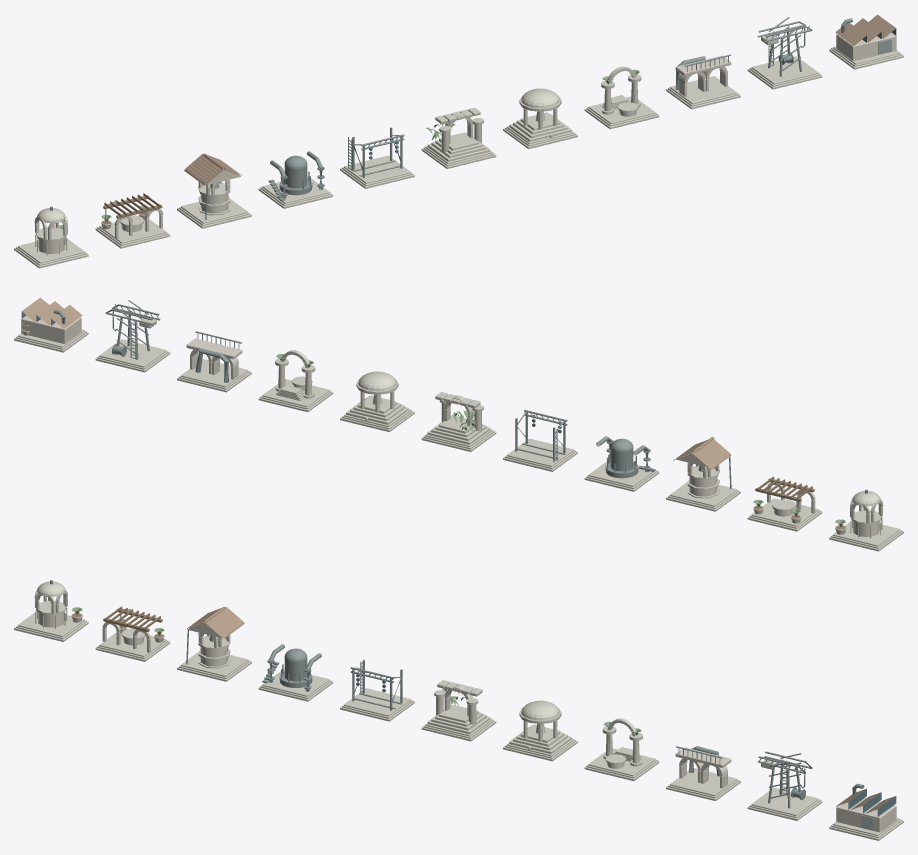
The model's file is landmarks.glb.
3 views of the same model, one above another, from view 1: azimuth 30°, elevation 25°; view 2: azimuth 150°, elevation 25°; view 3: azimuth 330°, elevation 25° (orthographic).
Parts seen in each view (by area): view 1: inferno__landmark, cache__landmark, ancient__landmark, vertigo__landmark, ancient_night__landmark, overpass__landmark, mirage__landmark, dust2__landmark, nuke__landmark, train__landmark, anubis__landmark; view 2: inferno__landmark, cache__landmark, overpass__landmark, ancient_night__landmark, vertigo__landmark, ancient__landmark, mirage__landmark, dust2__landmark, nuke__landmark, train__landmark, anubis__landmark; view 3: inferno__landmark, ancient__landmark, cache__landmark, vertigo__landmark, ancient_night__landmark, overpass__landmark, mirage__landmark, dust2__landmark, nuke__landmark, train__landmark, anubis__landmark.
Boxes of the visible parts, left/top/right/bottom form: inferno__landmark: left=177, top=153, right=251, bottom=228; cache__landmark: left=829, top=14, right=903, bottom=69; ancient__landmark: left=421, top=107, right=496, bottom=168; vertigo__landmark: left=747, top=17, right=822, bottom=89; ancient_night__landmark: left=503, top=88, right=577, bottom=148; overpass__landmark: left=666, top=54, right=740, bottom=109; mirage__landmark: left=95, top=193, right=170, bottom=248; dust2__landmark: left=14, top=206, right=88, bottom=268; nuke__landmark: left=258, top=151, right=333, bottom=208; train__landmark: left=340, top=127, right=414, bottom=188; anubis__landmark: left=584, top=66, right=659, bottom=129; inferno__landmark: left=666, top=436, right=740, bottom=511; cache__landmark: left=14, top=297, right=88, bottom=352; overpass__landmark: left=177, top=331, right=251, bottom=392; ancient_night__landmark: left=340, top=371, right=414, bottom=431; vertigo__landmark: left=95, top=300, right=170, bottom=372; ancient__landmark: left=421, top=392, right=496, bottom=451; mirage__landmark: left=747, top=476, right=822, bottom=531; dust2__landmark: left=829, top=489, right=903, bottom=551; nuke__landmark: left=584, top=436, right=659, bottom=491; train__landmark: left=503, top=409, right=577, bottom=471; anubis__landmark: left=258, top=350, right=333, bottom=412; inferno__landmark: left=177, top=606, right=251, bottom=681; ancient__landmark: left=421, top=680, right=496, bottom=741; cache__landmark: left=829, top=783, right=903, bottom=840; vertigo__landmark: left=747, top=751, right=822, bottom=820; ancient_night__landmark: left=503, top=700, right=577, bottom=761; overpass__landmark: left=666, top=746, right=740, bottom=800; mirage__landmark: left=95, top=606, right=170, bottom=661; dust2__landmark: left=14, top=580, right=88, bottom=641; nuke__landmark: left=258, top=644, right=333, bottom=701; train__landmark: left=340, top=659, right=414, bottom=721; anubis__landmark: left=584, top=718, right=659, bottom=781.
Bounding box in the file's own units: 53.05 × 3.1 × 2.7.
